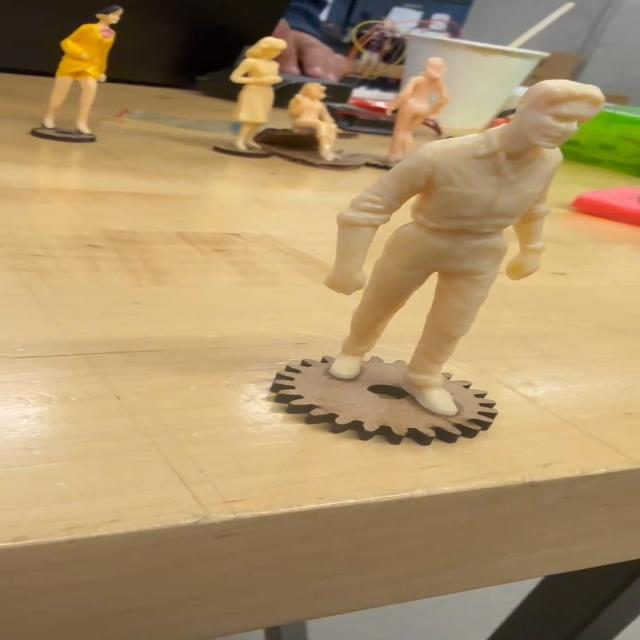Unauthorized: (304, 62, 611, 419)
